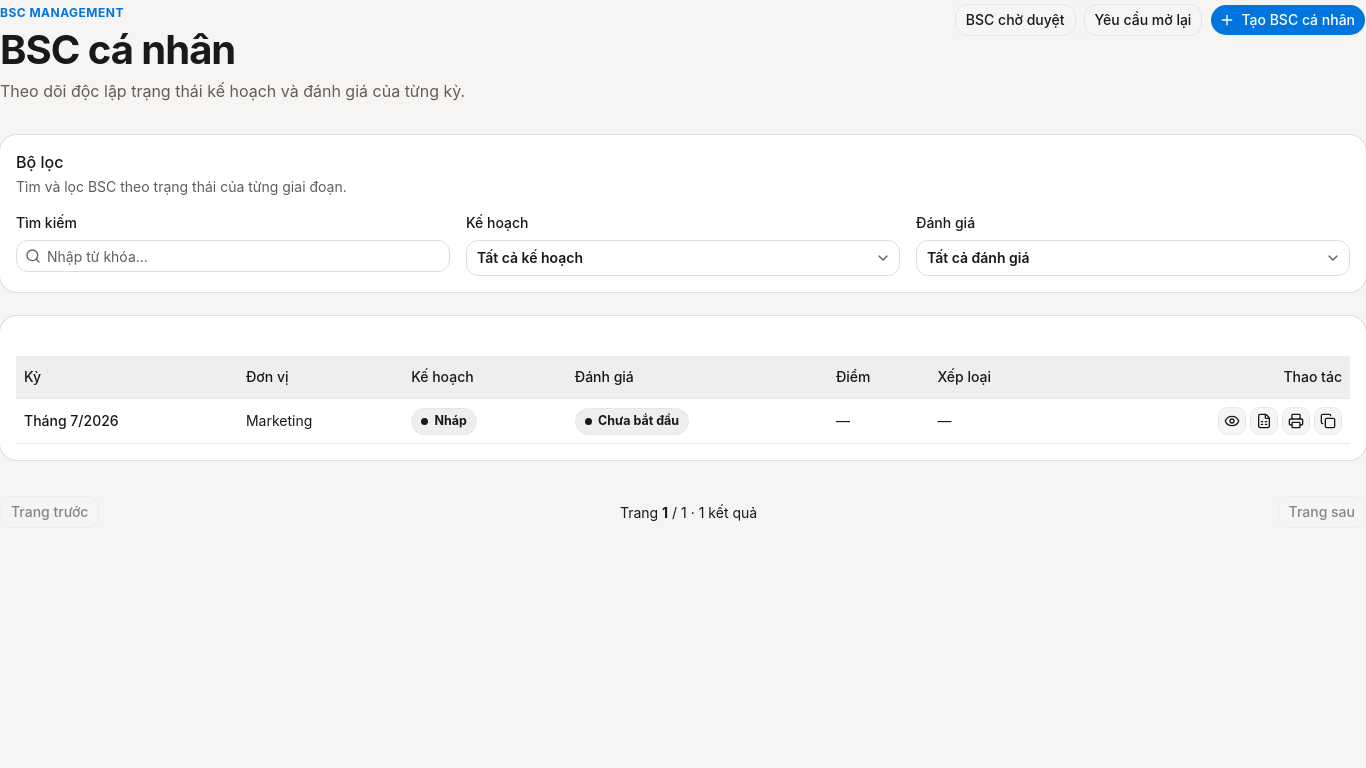
Test: BscListPage › distinguishes an available source version from a missing target cycle
Click the button named "Sao chép BSC": (1328, 421) [1314,407,1342,435]
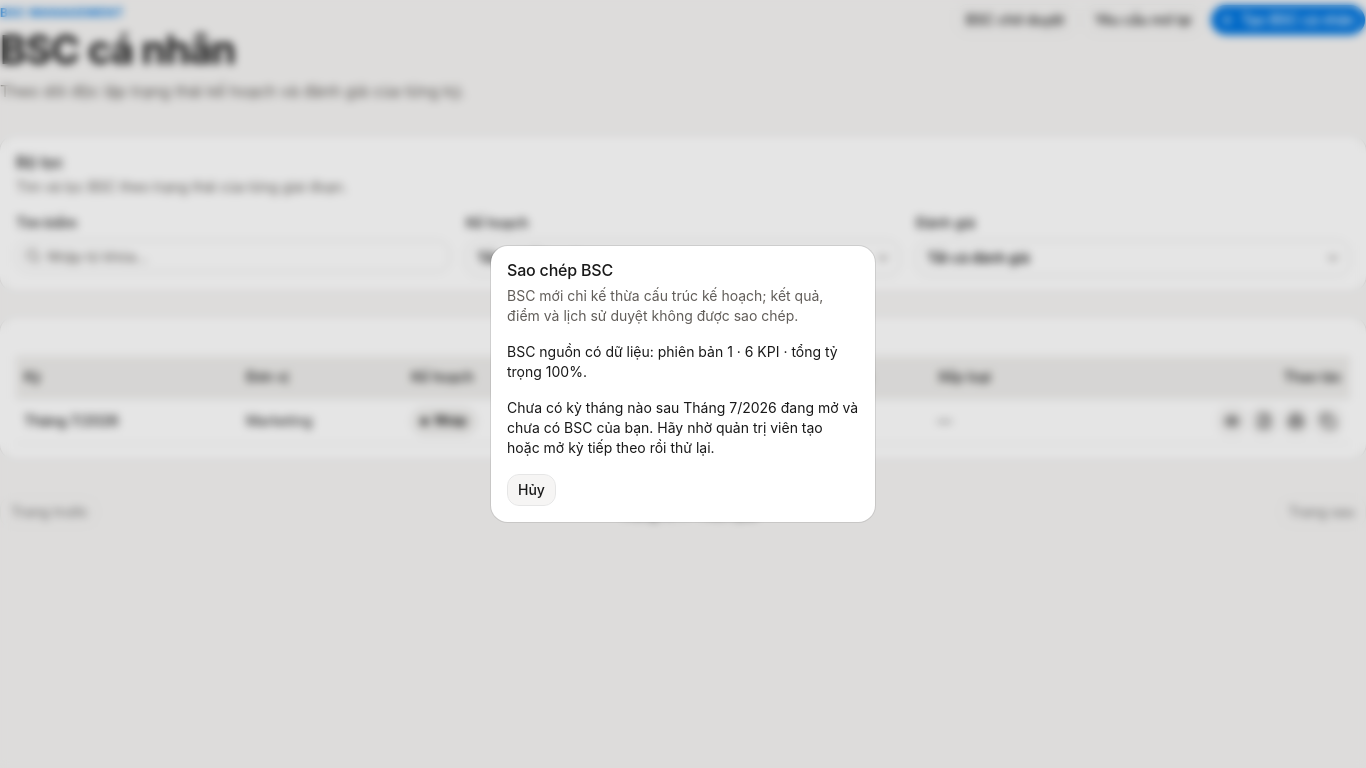
Check: the text "BSC nguồn có dữ liệu: phiên bản 1 · 6 KPI · tổng tỷ trọng 100%." is shown, box [507,342,859,382]
Check: the text "Chưa có kỳ tháng nào sau Tháng 7/2026 đang mở" is shown, box [507,398,859,458]
